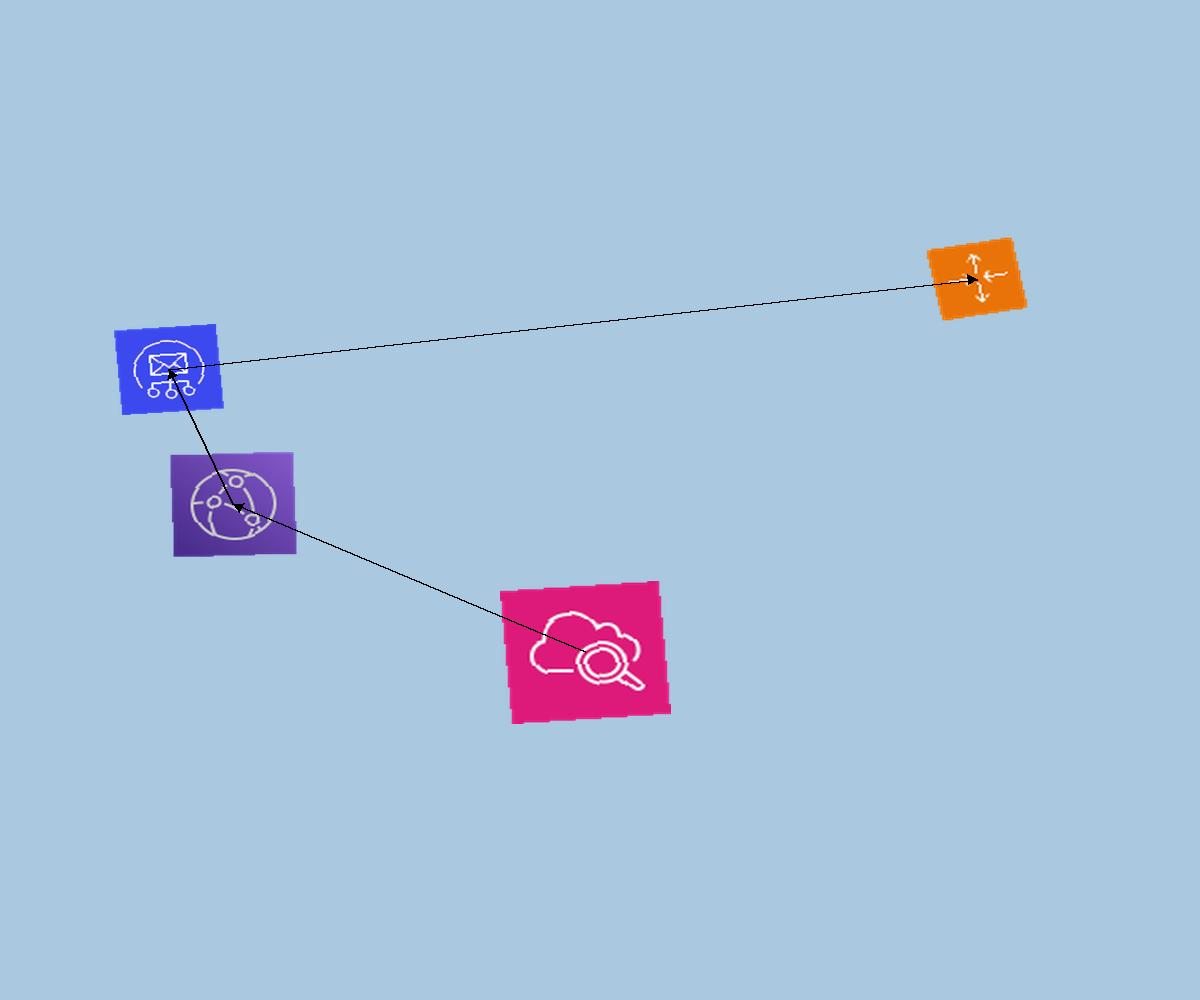AWS-CloudFront: (169, 451, 298, 558)
AWS-CloudWatch: (500, 581, 671, 724)
AWS-Scaling-group: (925, 236, 1029, 322)
AWS-Simple-Email-Service: (113, 323, 225, 416)
